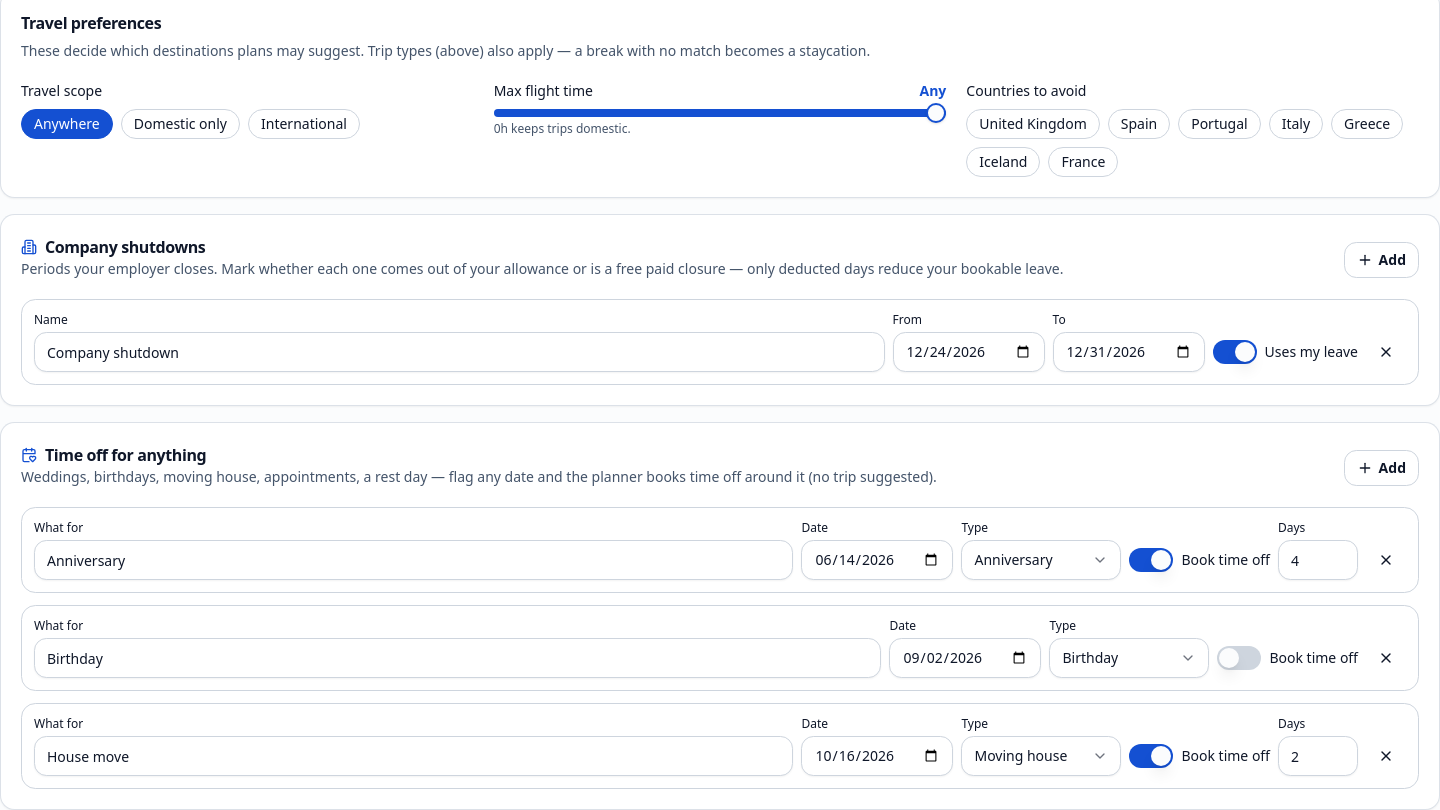
it: Time off for anything (occasions) › lists seeded occasions and can add one
(page scrolled)
Expected: the heading "Time off for anything" is shown, x1=21 y1=444 x2=206 y2=466
Expected: the 1st field showing "Anniversary" is shown, x1=34 y1=540 x2=793 y2=580
Click the button "Add" in the row of "Time off for anything" at (1381, 468), box x1=1344 y1=450 x2=1419 y2=486
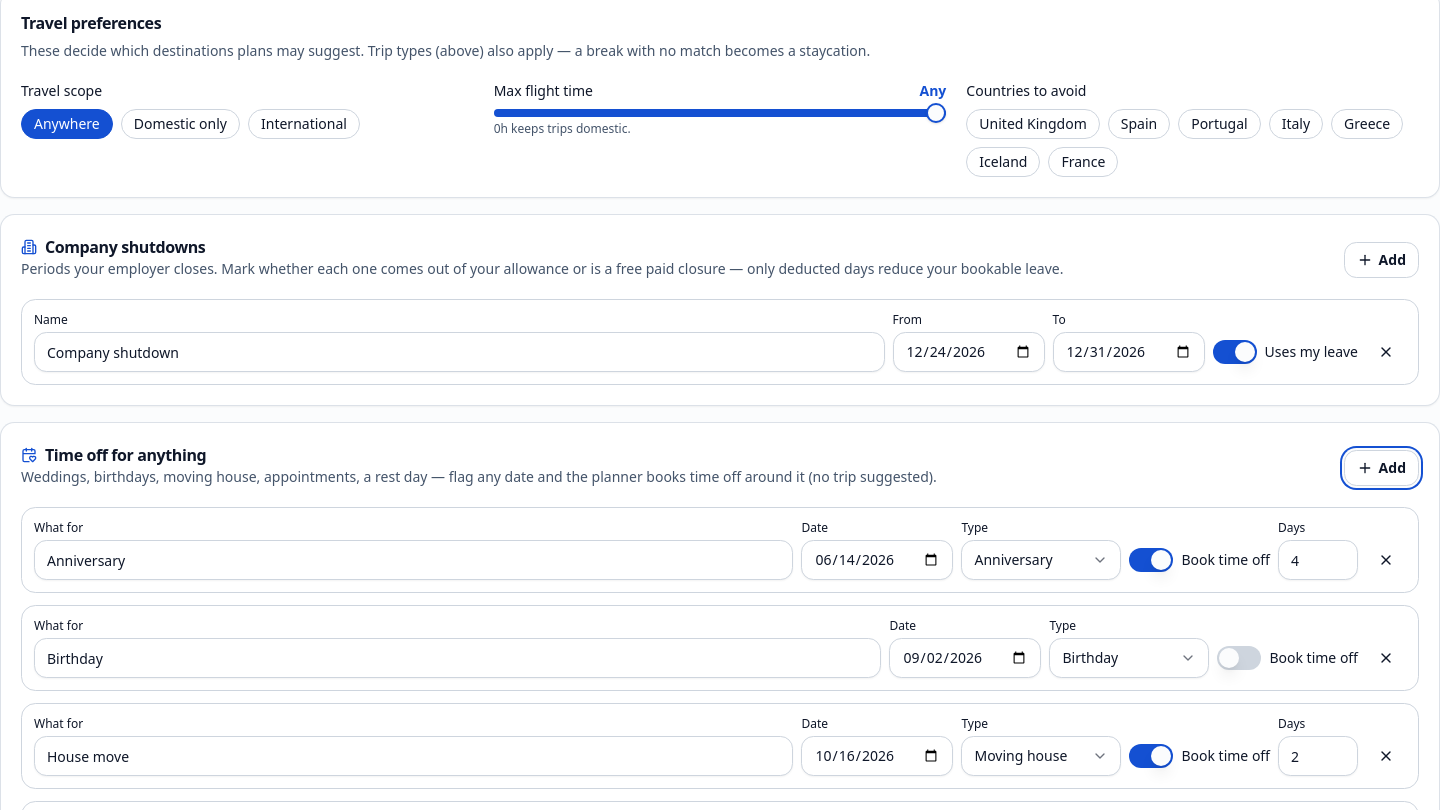
Now the number of fields labelled "What for" is 4
